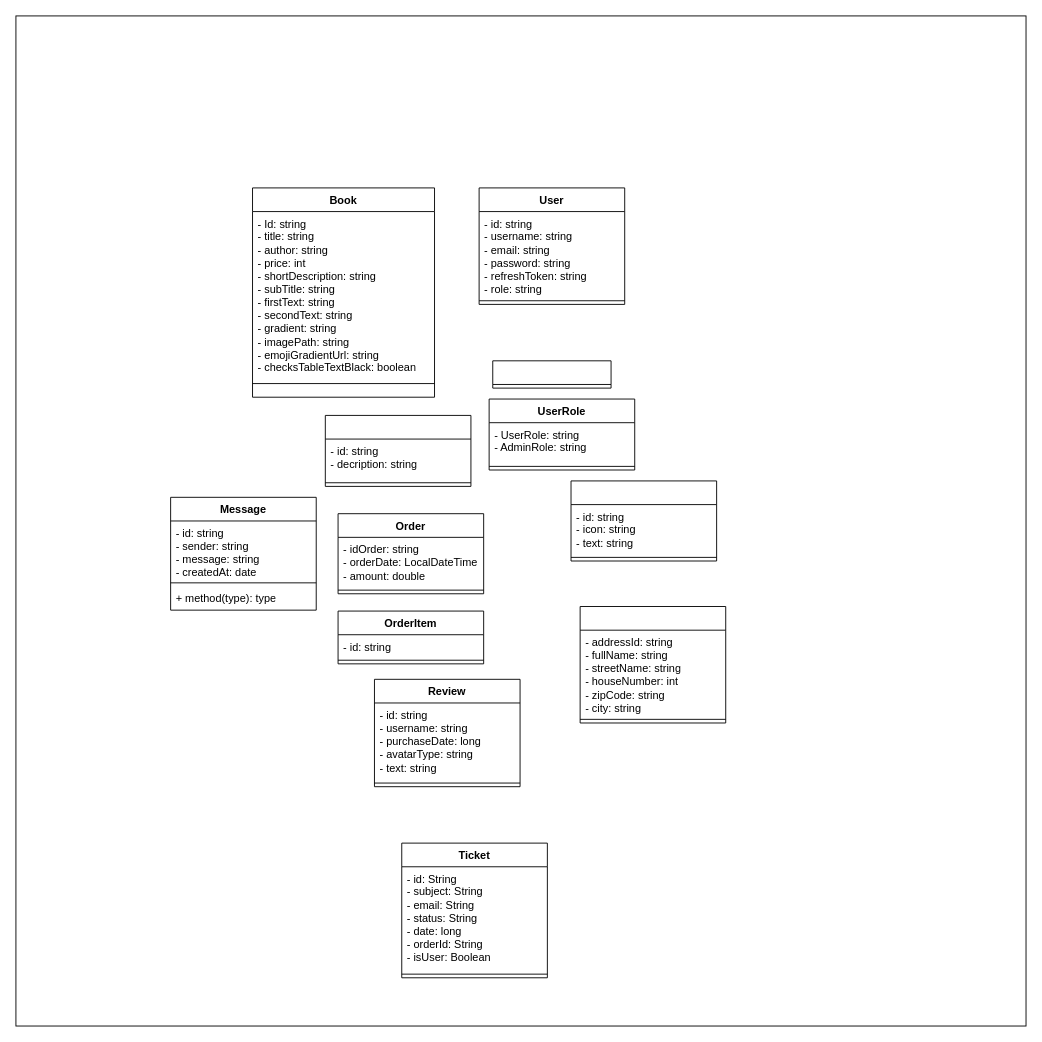
Some shapes in this 1042 by 1042 pixel diagram are drawn without their labels. Each missing label, with the box of its shape:
BillingAddress: (579, 606, 726, 723)
BookFeatures: (324, 415, 471, 486)
IconElements: (570, 480, 717, 561)
UserPreferences: (492, 360, 611, 388)
